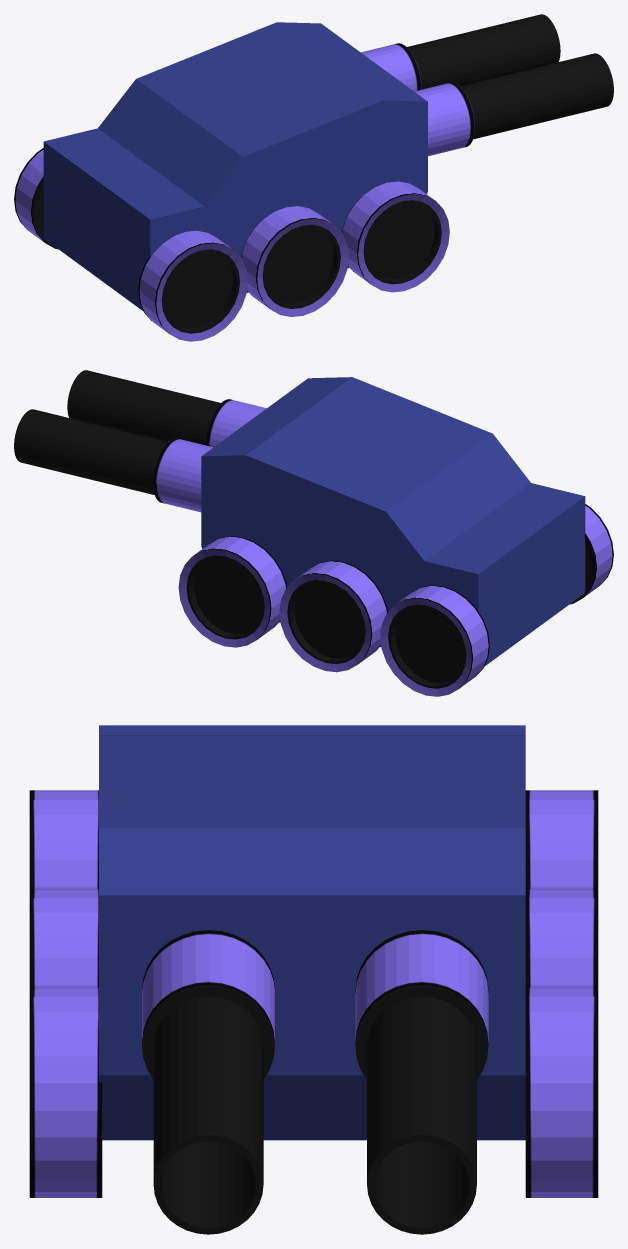
File: mini_tank.fbx
3 renders of one model, top to bottom at view 1: azimuth 30°, elevation 25°; view 2: azimuth 150°, elevation 25°; view 3: azimuth 270°, elevation 25°, orthographic. The views are drawn at different scales.
Parts seen in each view (by area): view 1: Cube, Tracks, Barrel, Barrel2; view 2: Cube, Tracks, Barrel2, Barrel; view 3: Cube, Tracks, Barrel, Barrel2.
Boxes of the visible parts, bbox=[...] form: Cube: bbox=[43, 22, 427, 311]; Tracks: bbox=[14, 148, 449, 341]; Barrel: bbox=[414, 53, 613, 156]; Barrel2: bbox=[361, 14, 560, 91]; Cube: bbox=[201, 377, 585, 665]; Tracks: bbox=[178, 504, 613, 696]; Barrel2: bbox=[14, 409, 212, 512]; Barrel: bbox=[67, 370, 266, 447]; Cube: bbox=[99, 725, 525, 1140]; Tracks: bbox=[29, 790, 598, 1197]; Barrel: bbox=[142, 930, 274, 1234]; Barrel2: bbox=[355, 930, 488, 1234].
Size of the model in its own units: 528 by 185 by 266.
